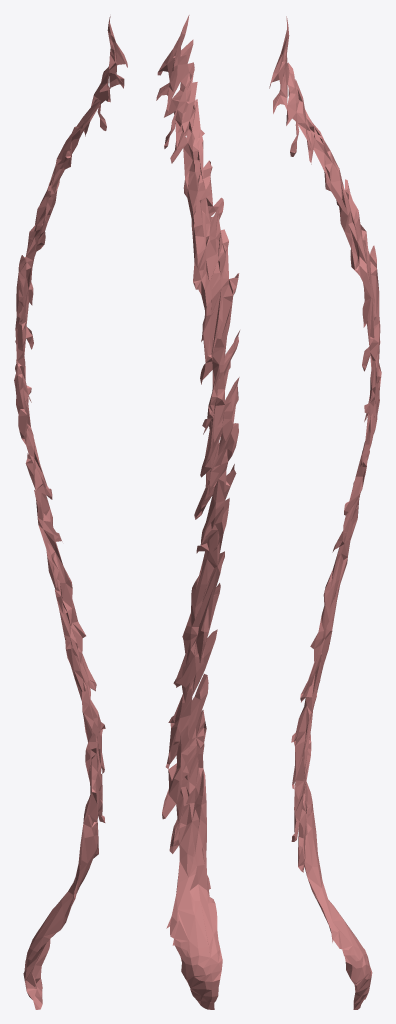
Rendered from Longissimus_thoracis_muscle.l.glb.
The picture shows the model from 3 angles, left to right: view 1: azimuth 90°, elevation 25°; view 2: azimuth 210°, elevation 25°; view 3: azimuth 270°, elevation 25°; orthographic projection. The views are drawn at different scales.
Visible parts, largest first — view 1: Longissimus_thoracis_muscle.l; view 2: Longissimus_thoracis_muscle.l; view 3: Longissimus_thoracis_muscle.l.
Part boxes in pixels (left/top/right/bottom): Longissimus_thoracis_muscle.l: left=14, top=16, right=127, bottom=1009; Longissimus_thoracis_muscle.l: left=156, top=15, right=239, bottom=1009; Longissimus_thoracis_muscle.l: left=269, top=16, right=381, bottom=1009.
Bounding box in the file's own units: 0.036 × 0.6321 × 0.0651.
